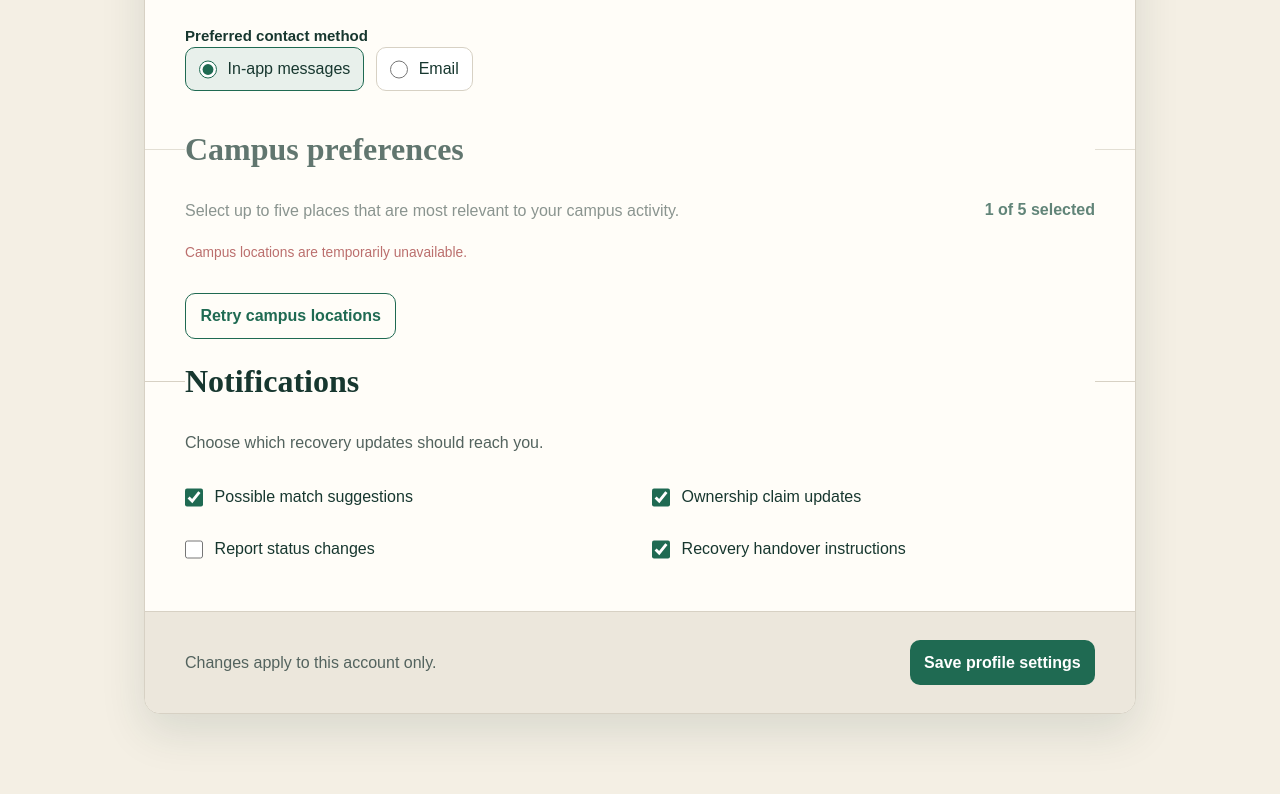
ProfileSettingsClient form › keeps the form usable and saved IDs unchanged when locations fail
(page scrolled)
Expected: the text "Campus locations are temporarily unavailable." is shown, [185, 245, 467, 260]
Expected: the element "Campus preferences" is disabled, [145, 131, 1135, 304]
Click the button "Save profile settings" at (1002,663), box [910, 640, 1095, 685]
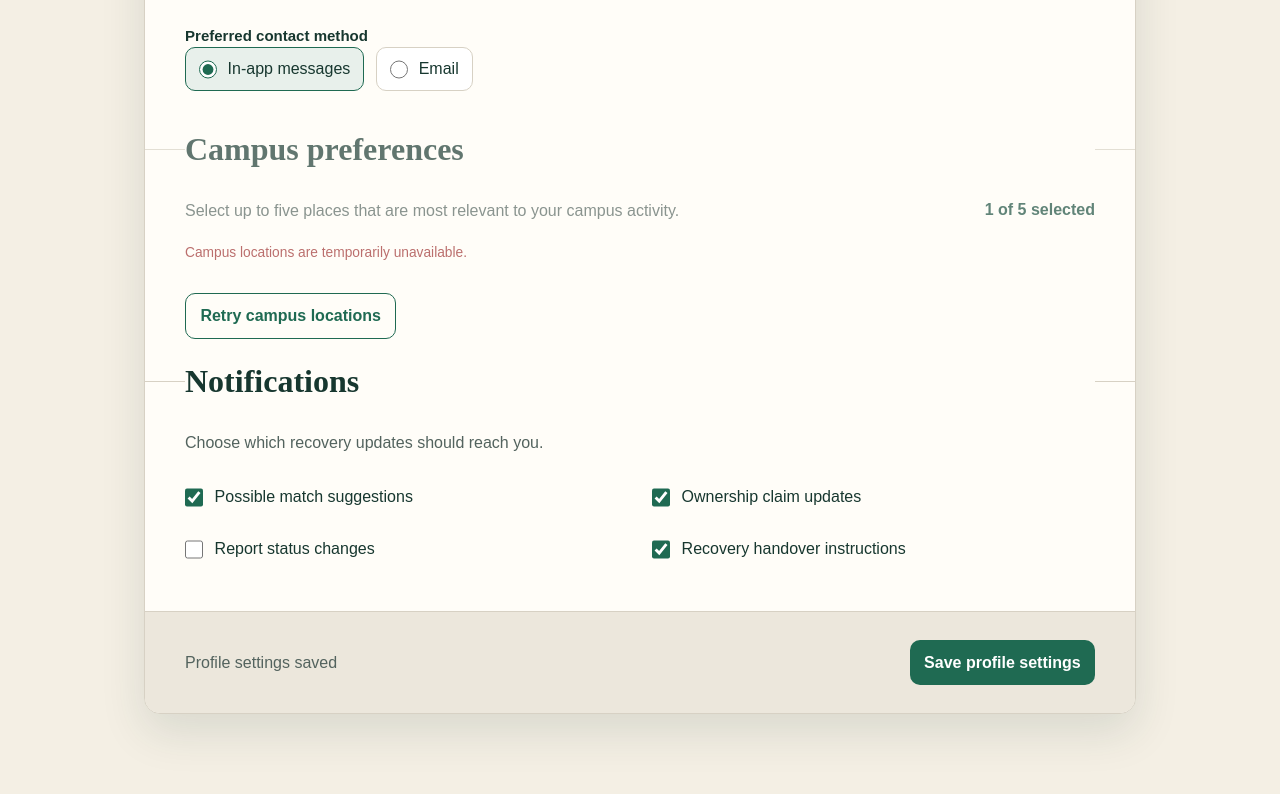
Click the button "Retry campus locations" at (291,316), box [185, 293, 396, 339]
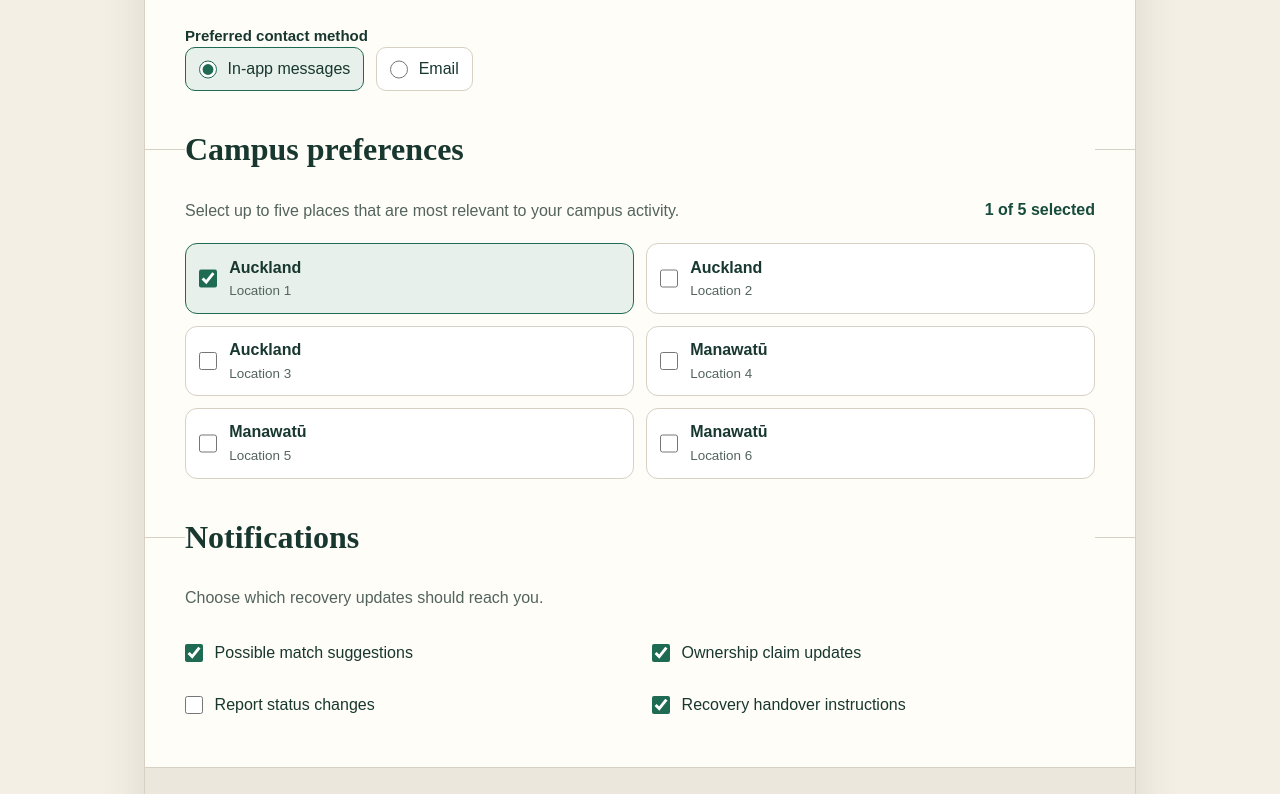
Now the checkbox named "Auckland — Location 1" is shown, box [199, 269, 217, 288]
